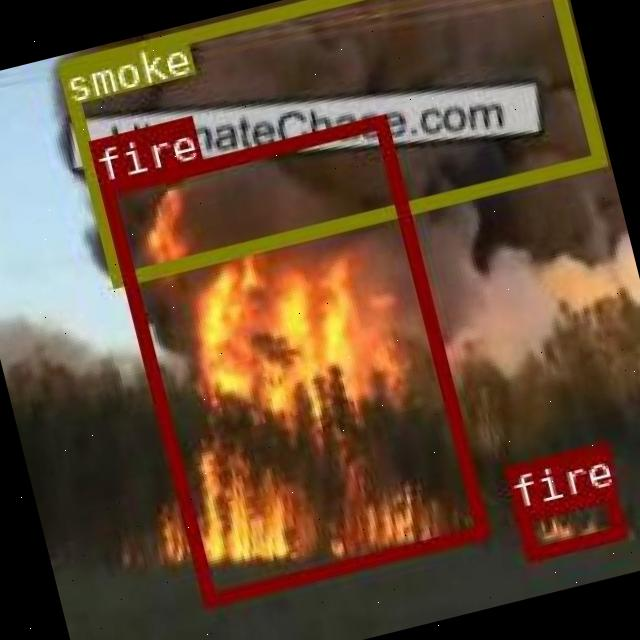fire: (96, 113, 488, 606), (512, 486, 624, 560)
smoke: (56, 0, 603, 284)
